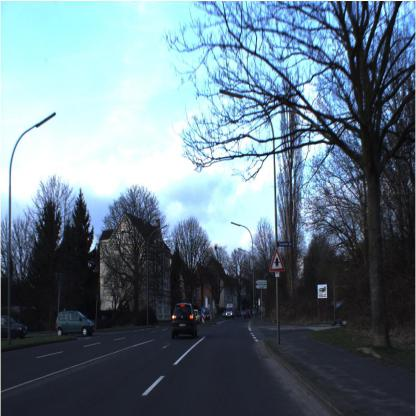danger: (268, 245, 284, 273)
mandatory: (200, 304, 207, 315)
